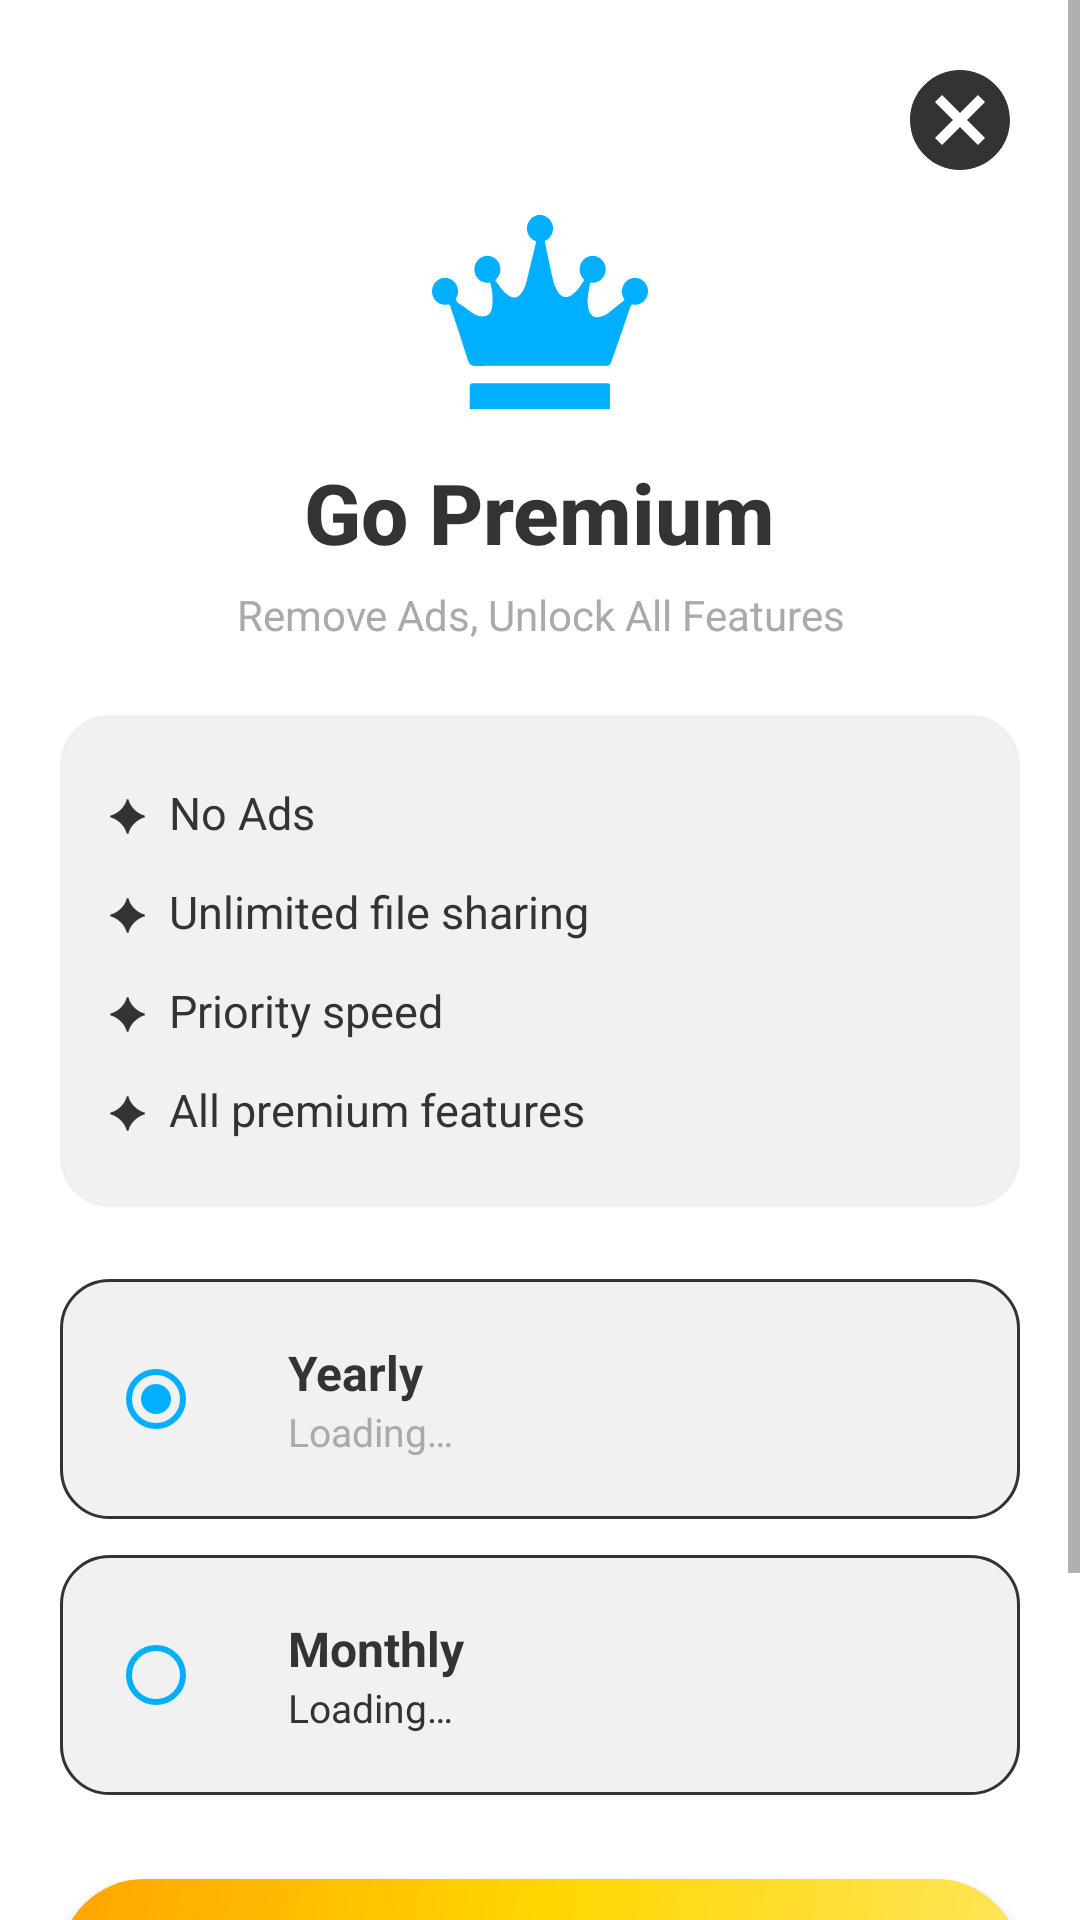

Screen size 1080w x 1920h. Icon name, then its center in pixels as (x=x, y=y):
cross: (x=960, y=120)
